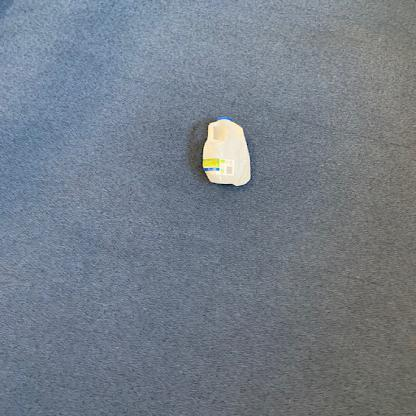trash: (198, 115, 254, 190)
